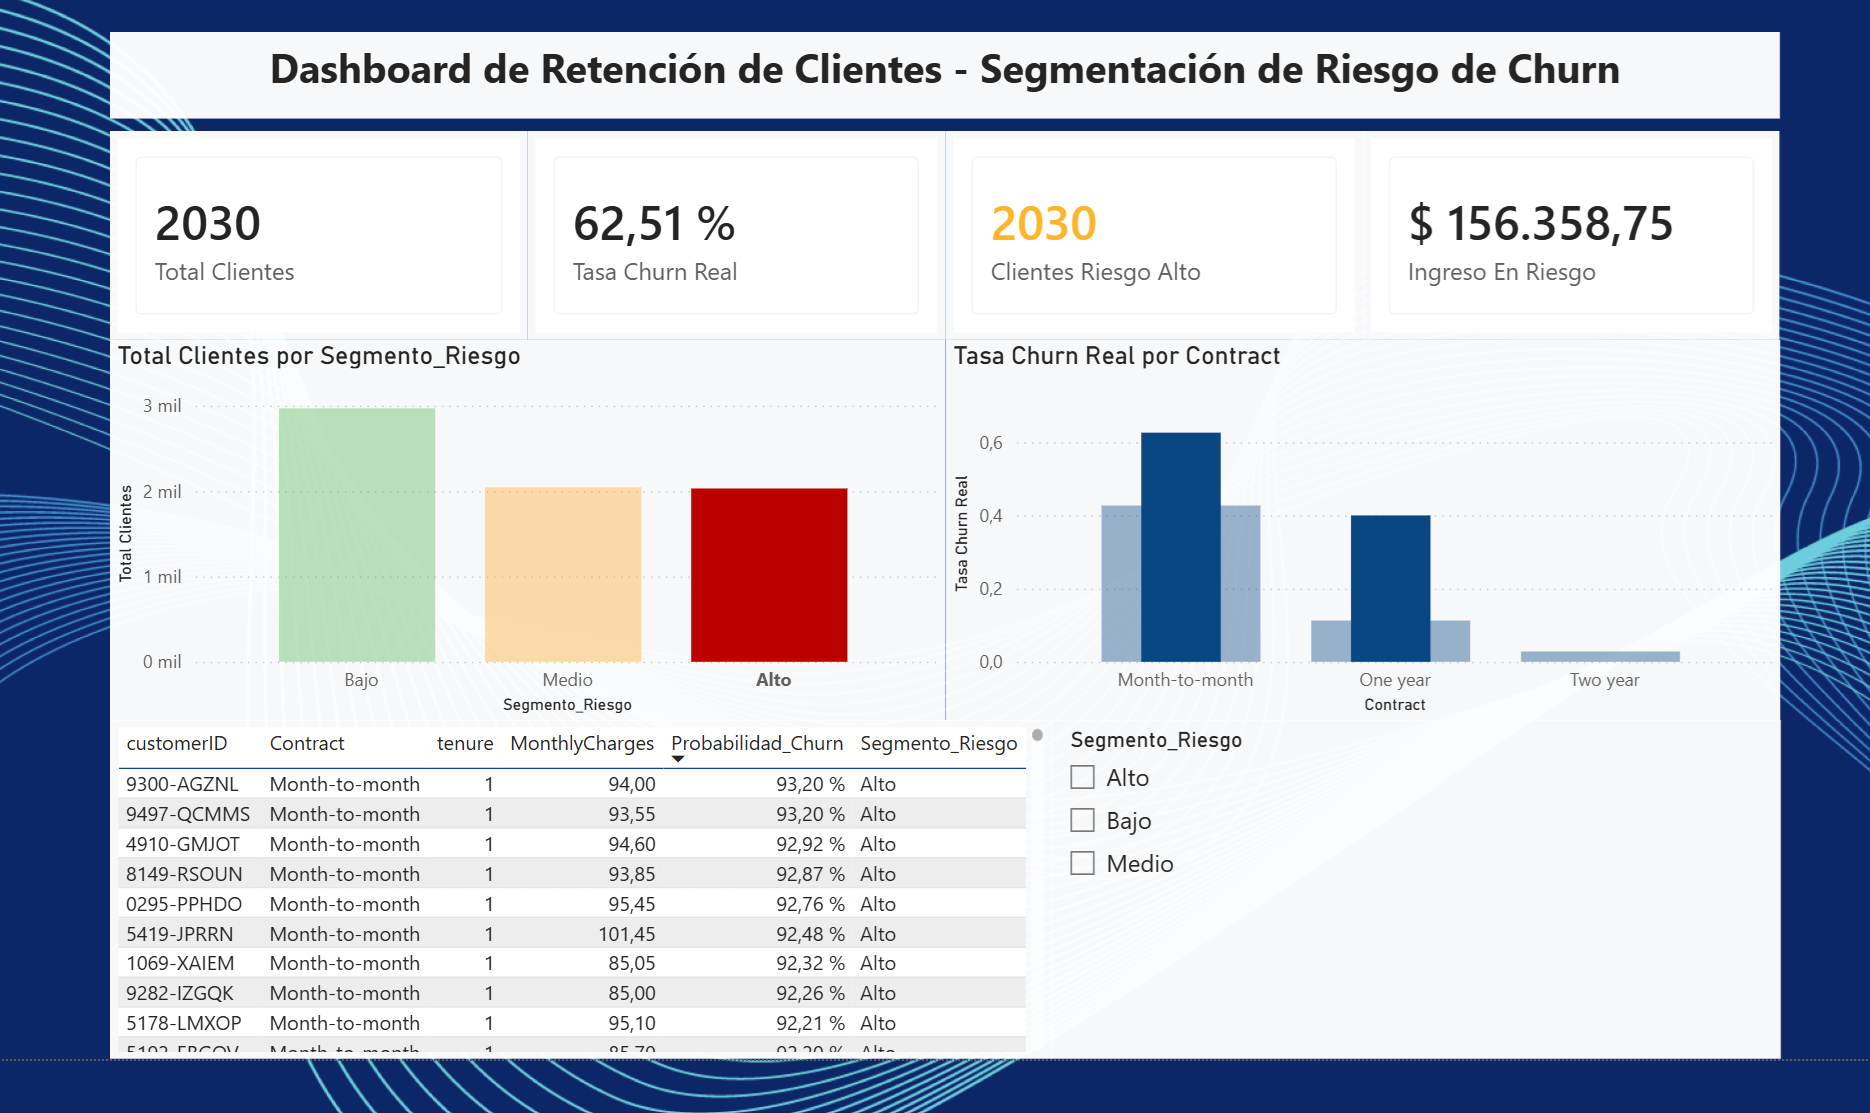

The page's visual inventory and layout, read from the dashboard file:
{"tool":"powerbi","page":{"name":"Página 1","canvas":[1280,720],"ordinal":0},"visuals":[{"type":"cardVisual","fields":{"Data":["churn_dashboard_dataset.Total Clientes"]},"box":[92.5,97.8,280.5,140.2],"z":0},{"type":"cardVisual","fields":{"Data":["churn_dashboard_dataset.Tasa Churn Real"]},"box":[372.6,97.8,279.7,140.2],"z":1000},{"type":"cardVisual","fields":{"Data":["churn_dashboard_dataset.Clientes Riesgo Alto"]},"box":[652.5,97.9,279.7,140.2],"z":2000},{"type":"cardVisual","fields":{"Data":["churn_dashboard_dataset.Ingreso En Riesgo"]},"box":[932.5,97.9,279.2,140.4],"z":3000},{"type":"clusteredColumnChart","fields":{"Category":["churn_dashboard_dataset.Segmento_Riesgo"],"Y":["churn_dashboard_dataset.Total Clientes"]},"box":[92.5,237.9,560.3,254.7],"z":4000},{"type":"clusteredColumnChart","fields":{"Y":["churn_dashboard_dataset.Tasa Churn Real"],"Category":["churn_dashboard_dataset.Contract"]},"box":[652.7,237.9,558.9,254.7],"z":5000},{"type":"tableEx","fields":{"Values":["churn_dashboard_dataset.customerID","churn_dashboard_dataset.Contract","churn_dashboard_dataset.tenure","churn_dashboard_dataset.MonthlyCharges","churn_dashboard_dataset.Probabilidad_Churn","churn_dashboard_dataset.Segmento_Riesgo"]},"box":[92.5,492.6,630.6,227.2],"z":6000},{"type":"slicer","fields":{"Values":["churn_dashboard_dataset.Segmento_Riesgo"]},"box":[723.1,492.6,488.5,227.2],"z":7000},{"type":"textbox","box":[92.5,31.5,1119.2,58.3],"z":7001}]}

Visuals, with their boxes in screenshot pixels (x1, y1, x2, y2):
cardVisual - churn_dashboard_dataset.Total Clientes: box(104, 127, 523, 336)
cardVisual - churn_dashboard_dataset.Tasa Churn Real: box(522, 127, 940, 336)
cardVisual - churn_dashboard_dataset.Clientes Riesgo Alto: box(941, 127, 1358, 336)
cardVisual - churn_dashboard_dataset.Ingreso En Riesgo: box(1359, 127, 1776, 336)
clusteredColumnChart - churn_dashboard_dataset.Segmento_Riesgo x churn_dashboard_dataset.Total Clientes: box(104, 336, 941, 716)
clusteredColumnChart - churn_dashboard_dataset.Tasa Churn Real x churn_dashboard_dataset.Contract: box(941, 336, 1776, 716)
tableEx - churn_dashboard_dataset.customerID x churn_dashboard_dataset.Contract: box(104, 716, 1046, 1056)
slicer - churn_dashboard_dataset.Segmento_Riesgo: box(1046, 716, 1776, 1056)
textbox: box(104, 28, 1776, 115)
